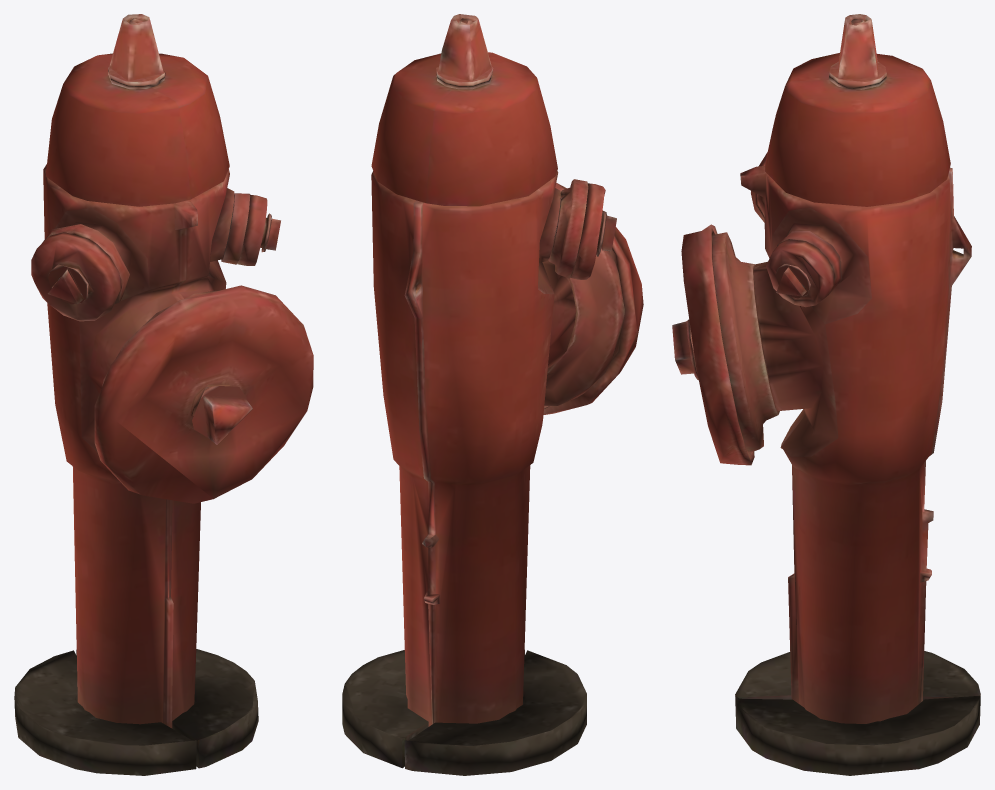
Rendered from fire_hydrant.glb.
The picture shows the model from 3 angles, left to right: view 1: azimuth 30°, elevation 25°; view 2: azimuth 150°, elevation 25°; view 3: azimuth 270°, elevation 25°; orthographic projection.
Parts seen in each view (by area): view 1: fire_hydrant; view 2: fire_hydrant; view 3: fire_hydrant.
Boxes of the visible parts, x1,y1,x2,y2 form: fire_hydrant: (14, 14, 313, 775); fire_hydrant: (342, 14, 643, 775); fire_hydrant: (672, 14, 980, 775).
Bounding box in the file's own units: 0.2743 × 0.7992 × 0.3173.
1 material, 1 textured.
